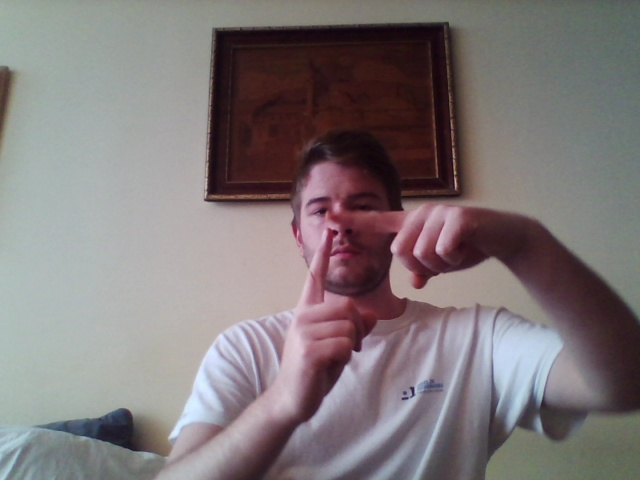kad: (278, 201, 519, 421)
